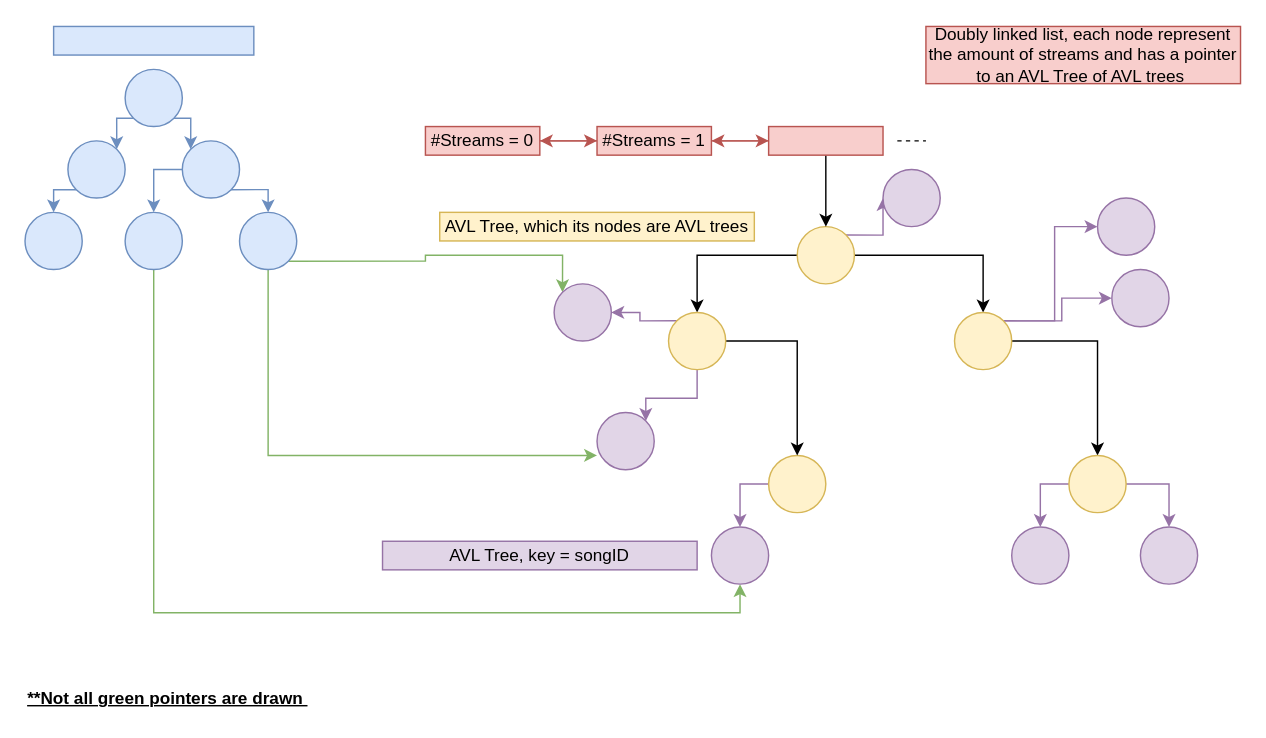
Image size: 1266x738. Some labels were removed from this diagram. The shapes that lost their labels are listed below. From the top down, each one's box as (x1, y1, x2, y2) in pixels, then its label:
(52, 25, 254, 55): AVL Tree, key = artistID
(767, 125, 883, 155): #Streams = 2
